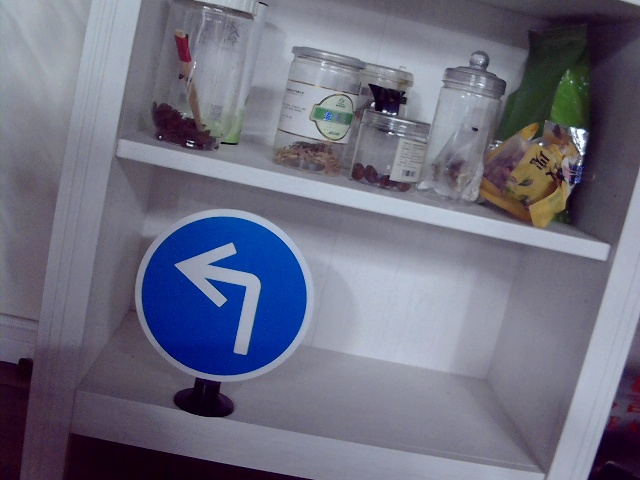turn_left: (175, 236, 262, 353)
